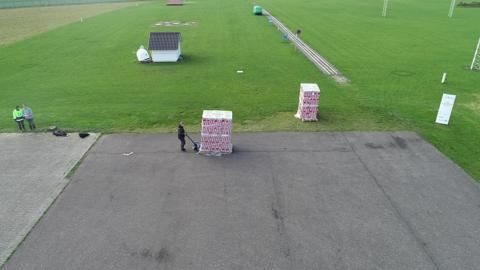RockwoolPallet: (201, 110, 236, 153)
